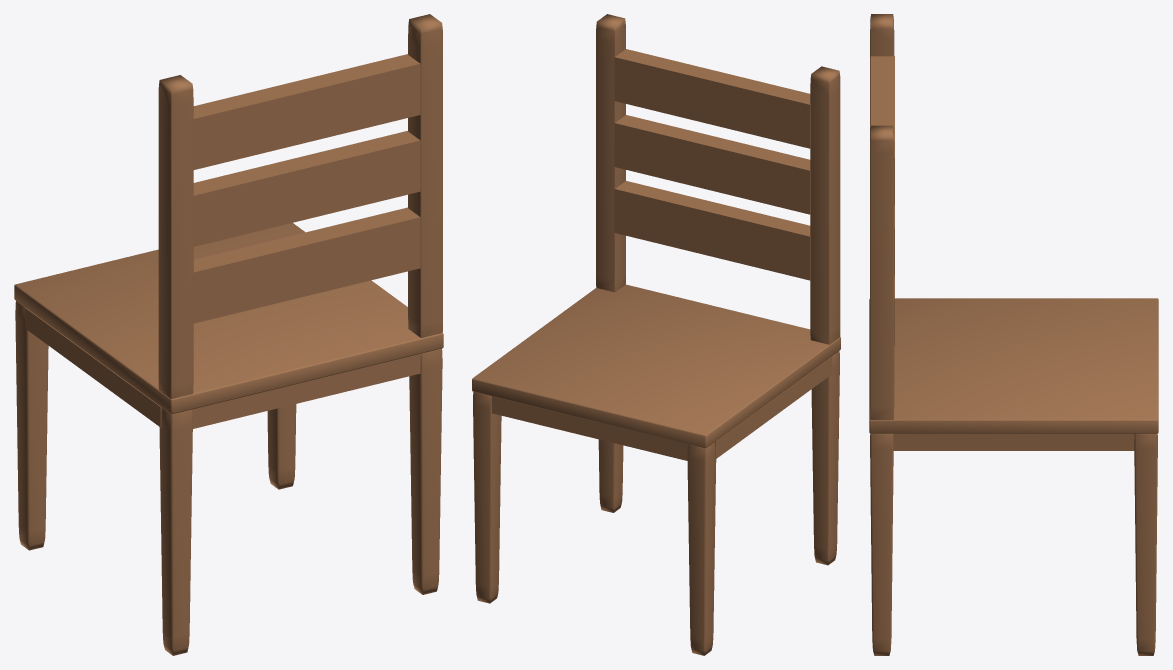
File: Chair2.fbx
3 renders of one model, left to right at view 1: azimuth 30°, elevation 25°; view 2: azimuth 150°, elevation 25°; view 3: azimuth 270°, elevation 25°, orthographic. The views are drawn at different scales.
Parts seen in each view (by area): view 1: Plane.001; view 2: Plane.001; view 3: Plane.001.
Part boxes in pixels (left/top/right/bottom): Plane.001: left=14, top=14, right=443, bottom=655; Plane.001: left=472, top=14, right=840, bottom=655; Plane.001: left=869, top=14, right=1158, bottom=655.
Bounding box in the file's own units: 1558 × 3105 × 1557.
